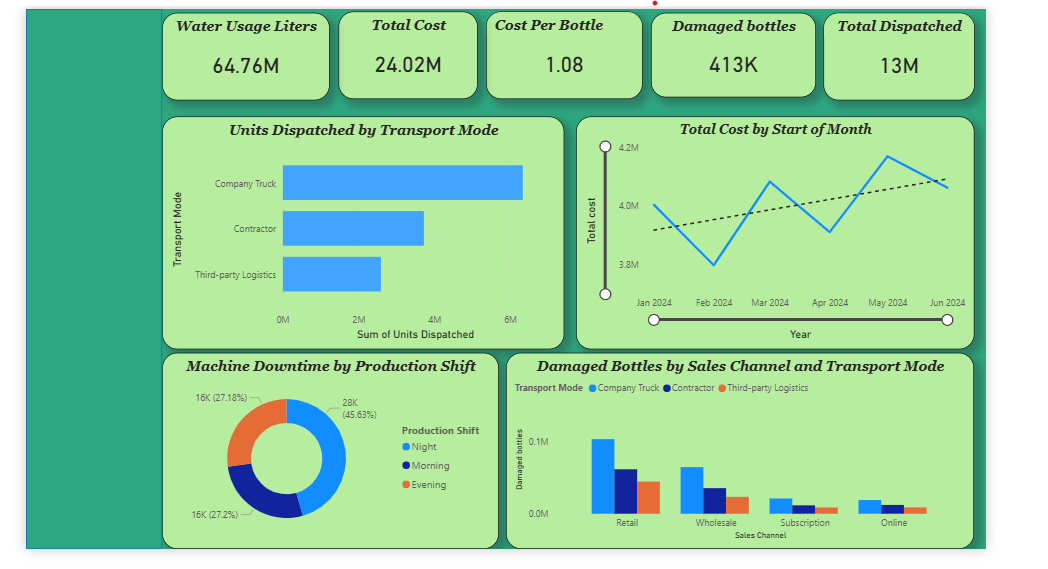

The page's visual inventory and layout, read from the dashboard file:
{"tool":"powerbi","page":{"name":"Operations Performance","canvas":[1280,720],"ordinal":3},"visuals":[{"type":"card","title":"Cost Per Bottle","fields":{"Values":["Measure.cost per bottle"]},"box":[612.9,2.9,208.6,117.1],"z":0},{"type":"card","title":"Total Cost","fields":{"Values":["Measure.Total cost"]},"box":[417.1,2.9,185.7,117.1],"z":1000},{"type":"card","title":"Water Usage Liters","fields":{"Values":["Sum(Rawda_procudtion_sales.Water UsageLiters)"]},"box":[173,3.7,230.7,117.8],"z":2000},{"type":"card","title":"Damaged bottles","fields":{"Values":["Measure.Damaged bottles"]},"box":[832.9,5.7,220,112.9],"z":3000},{"type":"card","title":"Total Dispatched","fields":{"Values":["Measure.Total Dispatched"]},"box":[1062.9,4.3,201.4,117.1],"z":4000},{"type":"barChart","title":" Units Dispatched by Transport Mode","fields":{"Y":["Sum(Rawda_procudtion_sales.Units Dispatched)"],"Category":["Rawda_procudtion_sales.Transport Mode"]},"box":[173,142.3,543.6,310.4],"z":5000},{"type":"lineChart","title":"Total Cost by Start of Month","fields":{"Category":["Rawda_procudtion_sales.Date.Variation.Date Hierarchy.Year","Rawda_procudtion_sales.Date.Variation.Date Hierarchy.Month"],"Y":["Measure.Total cost"]},"box":[732.9,142.9,531.4,310],"z":6000},{"type":"donutChart","title":"Machine Downtime by Production Shift","fields":{"Y":["Sum(Rawda_procudtion_sales.Machine DowntimeMin)"],"Category":["Rawda_procudtion_sales.Production Shift"]},"box":[173,458.9,456.4,261.4],"z":7000},{"type":"clusteredColumnChart","title":"Damaged Bottles by Sales Channel and Transport Mode","fields":{"Category":["Rawda_procudtion_sales.Sales Channel"],"Series":["Rawda_procudtion_sales.Transport Mode"],"Y":["Measure.Damaged bottles"]},"box":[640,458.6,624.3,261.4],"z":8000},{"type":"shape","box":[0,0,155.8,720.2],"z":9000},{"type":"image","box":[0,613.5,155.8,106.7],"z":10000},{"type":"image","box":[0,472.4,155.8,116.6],"z":11000},{"type":"image","box":[14.7,218.4,127.6,131.3],"z":12000},{"type":"image","box":[0,360.7,155.8,103.1],"z":13000},{"type":"image","box":[0,110.4,155.8,108],"z":14000}]}

Visuals, with their boxes on the page's 1280x720 design canvas (x1, y1, x2, y2). These are canvas units, not pixel positions in the 1048x569 screenshot, which may show the page scaled, cropped or inside an application window:
"Cost Per Bottle" card: bbox=[613, 3, 822, 120]
"Total Cost" card: bbox=[417, 3, 603, 120]
"Water Usage Liters" card: bbox=[173, 4, 404, 122]
"Damaged bottles" card: bbox=[833, 6, 1053, 119]
"Total Dispatched" card: bbox=[1063, 4, 1264, 121]
" Units Dispatched by Transport Mode" barChart: bbox=[173, 142, 717, 453]
"Total Cost by Start of Month" lineChart: bbox=[733, 143, 1264, 453]
"Machine Downtime by Production Shift" donutChart: bbox=[173, 459, 629, 720]
"Damaged Bottles by Sales Channel and Transport Mode" clusteredColumnChart: bbox=[640, 459, 1264, 720]
shape: bbox=[0, 0, 156, 720]
image: bbox=[0, 614, 156, 720]
image: bbox=[0, 472, 156, 589]
image: bbox=[15, 218, 142, 350]
image: bbox=[0, 361, 156, 464]
image: bbox=[0, 110, 156, 218]
